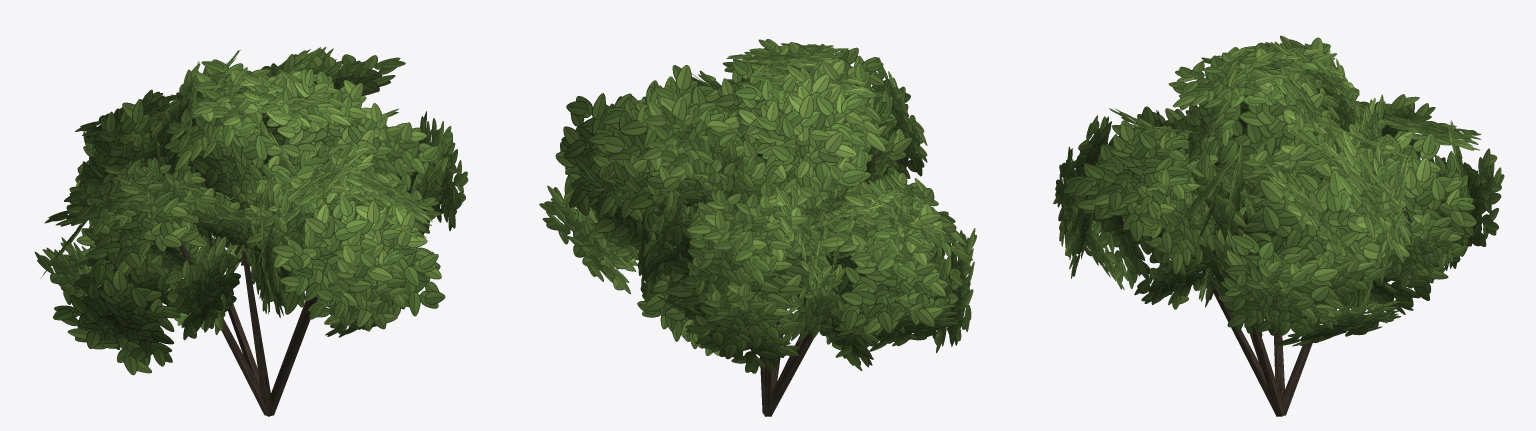
The model's file is cespuglio_2.glb.
3 views of the same model, side by side, from view 1: azimuth 30°, elevation 25°; view 2: azimuth 150°, elevation 25°; view 3: azimuth 270°, elevation 25° (orthographic).
Visible parts, largest first — view 1: cespuglio_2; view 2: cespuglio_2; view 3: cespuglio_2.
Part boxes in pixels (left/top/right/bottom): cespuglio_2: left=34, top=47, right=468, bottom=416; cespuglio_2: left=539, top=39, right=976, bottom=416; cespuglio_2: left=1053, top=35, right=1504, bottom=416.
Size of the model in its own units: 4.62 by 3.87 by 4.39.
Materials: 2 (2 with a texture image).
